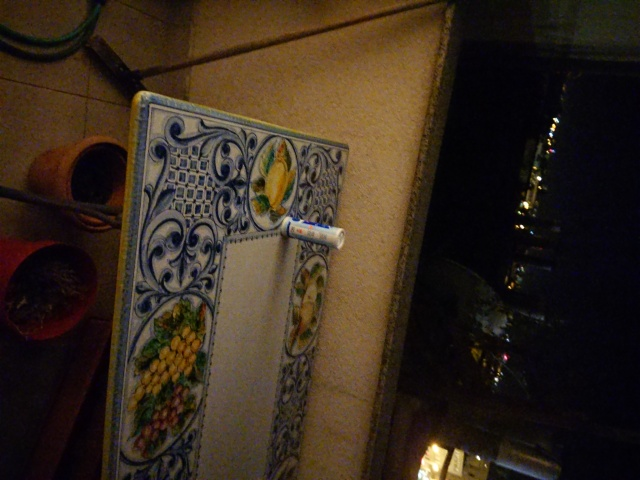Solana Pag Fine Sea Salt 250g: (277, 213, 347, 255)
